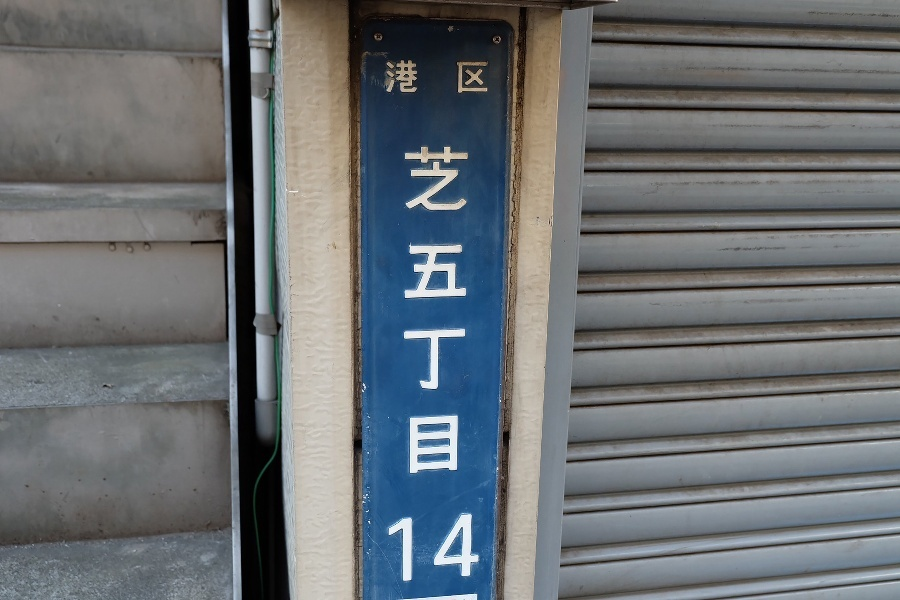text: (417, 147, 432, 586), (433, 147, 448, 586), (449, 147, 464, 586), (465, 147, 480, 586), (402, 147, 416, 586), (401, 59, 416, 95), (417, 59, 432, 95), (433, 59, 448, 95), (449, 59, 464, 95), (465, 59, 480, 95), (387, 59, 400, 95), (481, 147, 482, 586), (481, 59, 490, 95)
